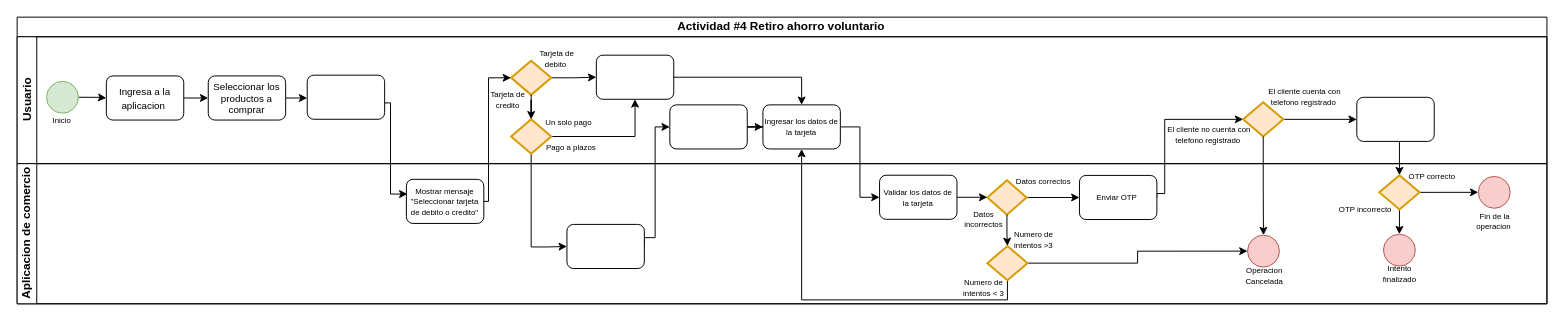
The diagram is 1564 pixels wide and 326 high, and some of its shapes have lost their labels. The centre of each missing label's shape, as x and y in pixels:
Ingresa los datos de envio y selecciona finalizar compra: the point at 345,96
Ingresar OTP: the point at 1395,118
Mostrar las opciones de pago a plazo.: the point at 605,246
Pago en una sola exhibición: the point at 634,76
Seleccionar plazo: the point at 708,126
